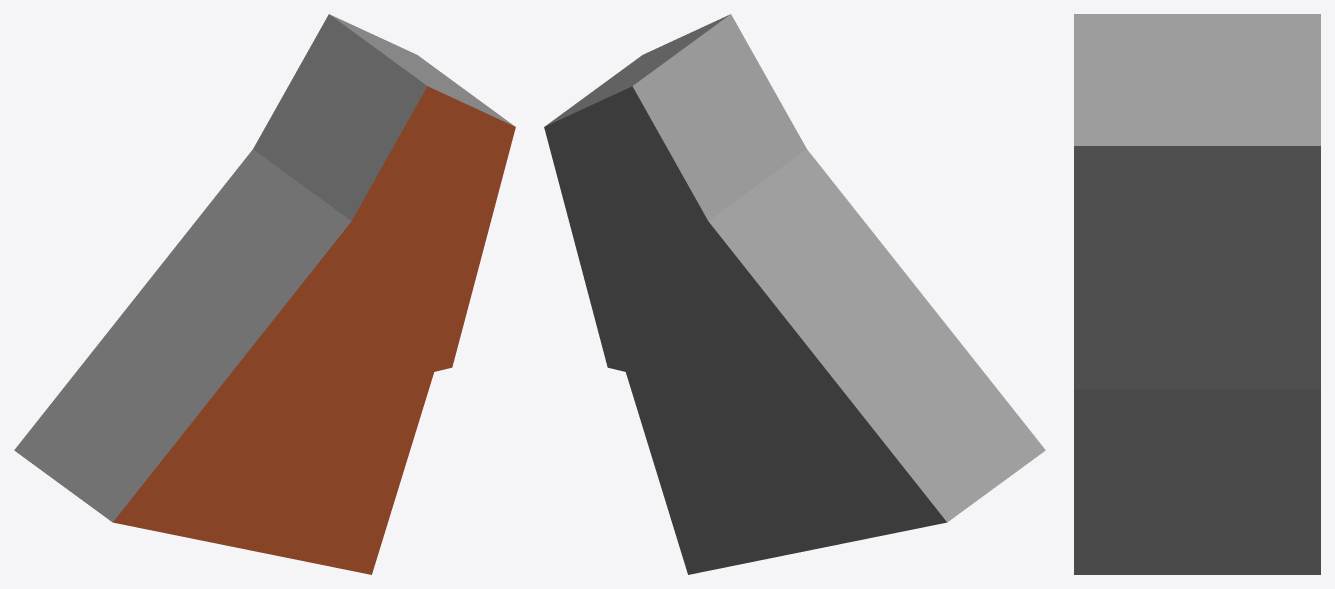
Rendered from construction_4403_assumed_A_Casa_h6m.obj.
3 renders of one model, left to right at view 1: azimuth 30°, elevation 25°; view 2: azimuth 150°, elevation 25°; view 3: azimuth 270°, elevation 25°, orthographic. The views are drawn at different scales.
Visible parts, largest first — view 1: construction_4403_assumed_A_Casa; view 2: construction_4403_assumed_A_Casa; view 3: construction_4403_assumed_A_Casa.
Boxes of the visible parts, bbox=[...] form: construction_4403_assumed_A_Casa: bbox=[14, 14, 515, 574]; construction_4403_assumed_A_Casa: bbox=[544, 14, 1045, 574]; construction_4403_assumed_A_Casa: bbox=[1074, 14, 1320, 574].
Bounding box in the file's own units: 14.17 × 15.95 × 6.
